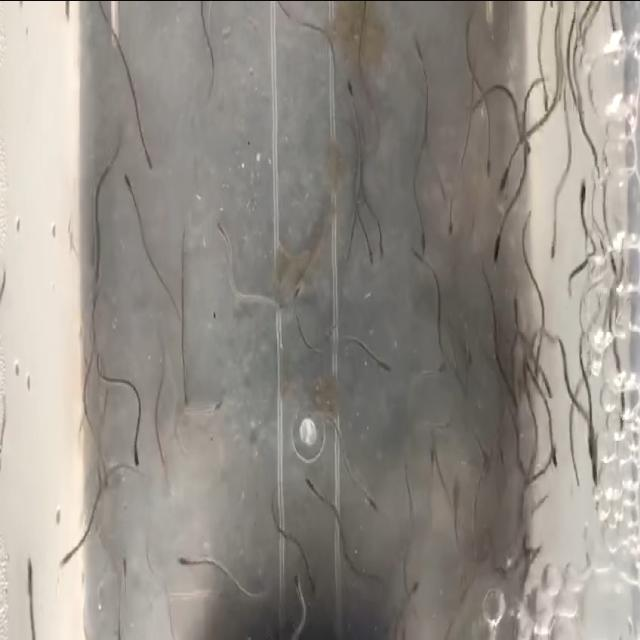active_glass_eel: (137, 128, 153, 175), (125, 424, 142, 468), (174, 537, 197, 569), (491, 221, 505, 270), (588, 439, 600, 493), (517, 118, 534, 156), (544, 212, 558, 258), (22, 550, 34, 603), (292, 568, 307, 610), (218, 220, 232, 264), (575, 174, 587, 225), (374, 352, 393, 384), (498, 158, 512, 200), (362, 491, 380, 523), (402, 574, 420, 606), (410, 248, 428, 278), (302, 472, 322, 498), (292, 270, 308, 302), (538, 78, 552, 114), (305, 566, 318, 604), (443, 202, 456, 240), (346, 76, 358, 116), (120, 164, 134, 198), (418, 215, 429, 257), (58, 545, 74, 573), (209, 388, 225, 416), (586, 412, 594, 467), (428, 360, 447, 382), (375, 232, 386, 269), (180, 386, 192, 419), (367, 240, 377, 276), (548, 436, 560, 466), (120, 552, 130, 586), (482, 152, 492, 186), (428, 438, 437, 468), (61, 0, 72, 24)
